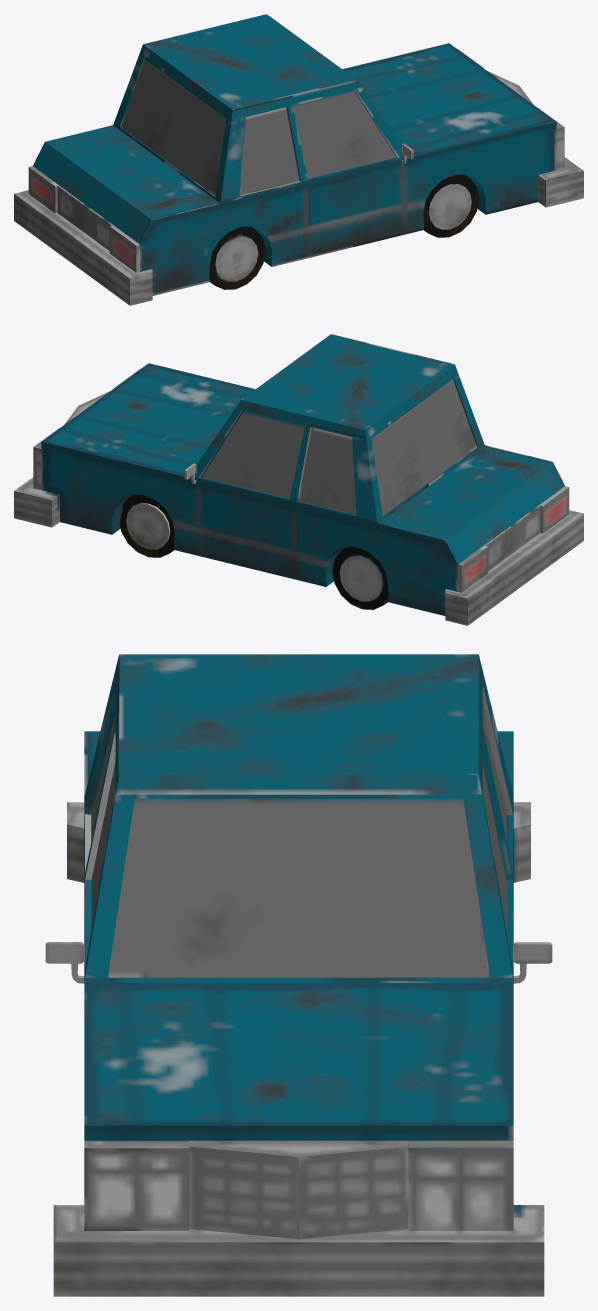
Rendered from chevy car(with textures).gltf.
3 renders of one model, top to bottom at view 1: azimuth 30°, elevation 25°; view 2: azimuth 150°, elevation 25°; view 3: azimuth 270°, elevation 25°, orthographic. The views are drawn at different scales.
Parts seen in each view (by area): view 1: Cube; view 2: Cube; view 3: Cube.
Boxes of the visible parts, x1=… form: Cube: x1=14, y1=14, x2=583, y2=305; Cube: x1=14, y1=334, x2=583, y2=625; Cube: x1=45, y1=654, x2=552, y2=1296.
Bounding box in the file's own units: 44.59 × 16.72 × 21.72.
Materials: 1 (1 with a texture image).
